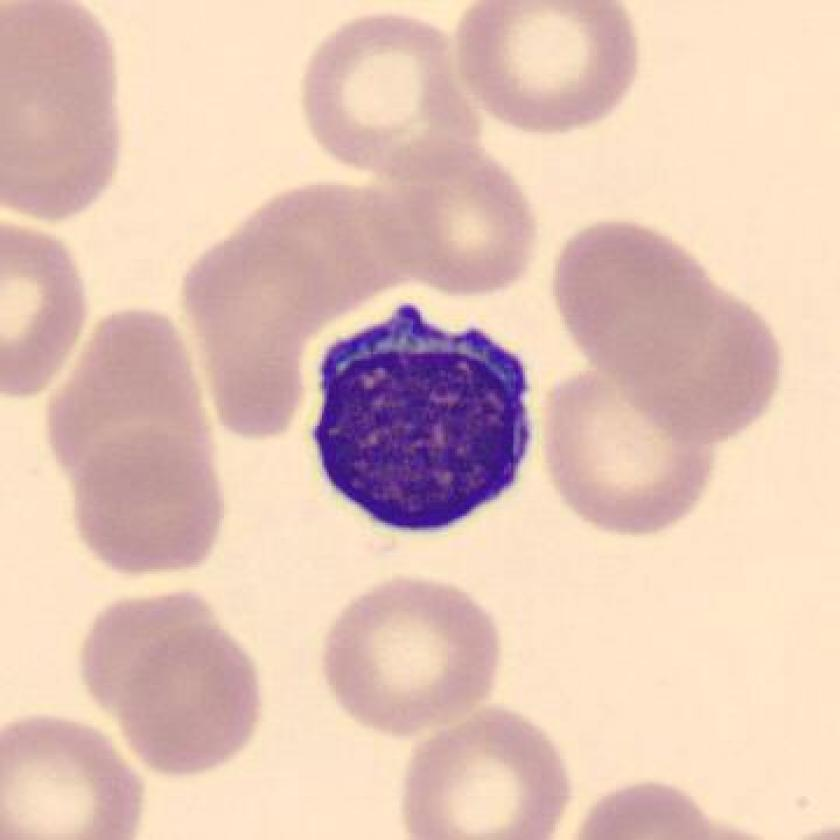lymphocyte: (293, 293, 549, 552)
